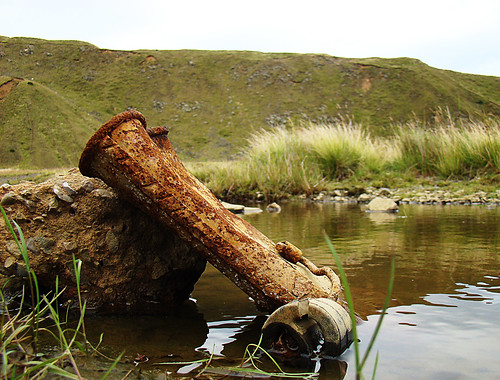grass: (5, 48, 493, 168)
river: (264, 209, 500, 380)
sky: (6, 1, 500, 48)
trash: (58, 106, 369, 365)
